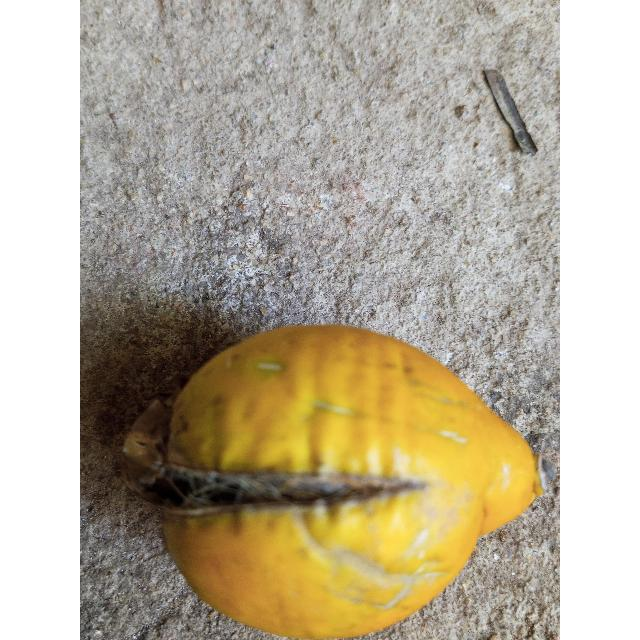damaged: (123, 324, 544, 640)
